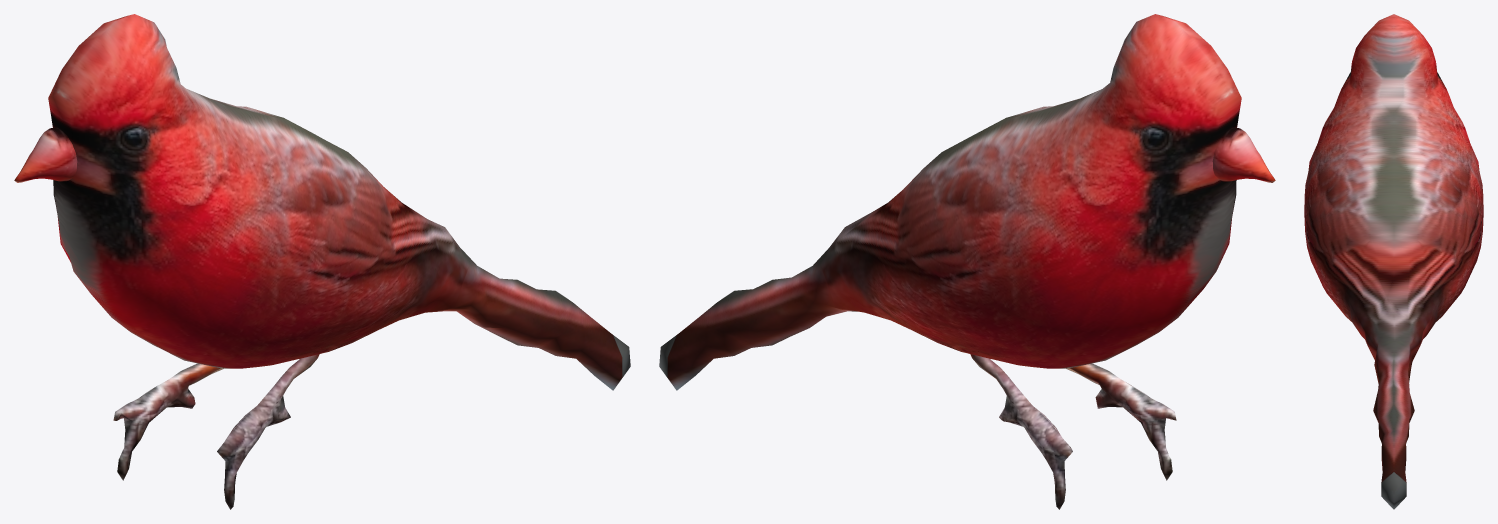
File: bird5.obj
3 views of the same model, side by side, from view 1: azimuth 30°, elevation 25°; view 2: azimuth 150°, elevation 25°; view 3: azimuth 270°, elevation 25° (orthographic). The views are drawn at different scales.
Bounding box in the file's own units: 1.61 × 1.3 × 0.6.
